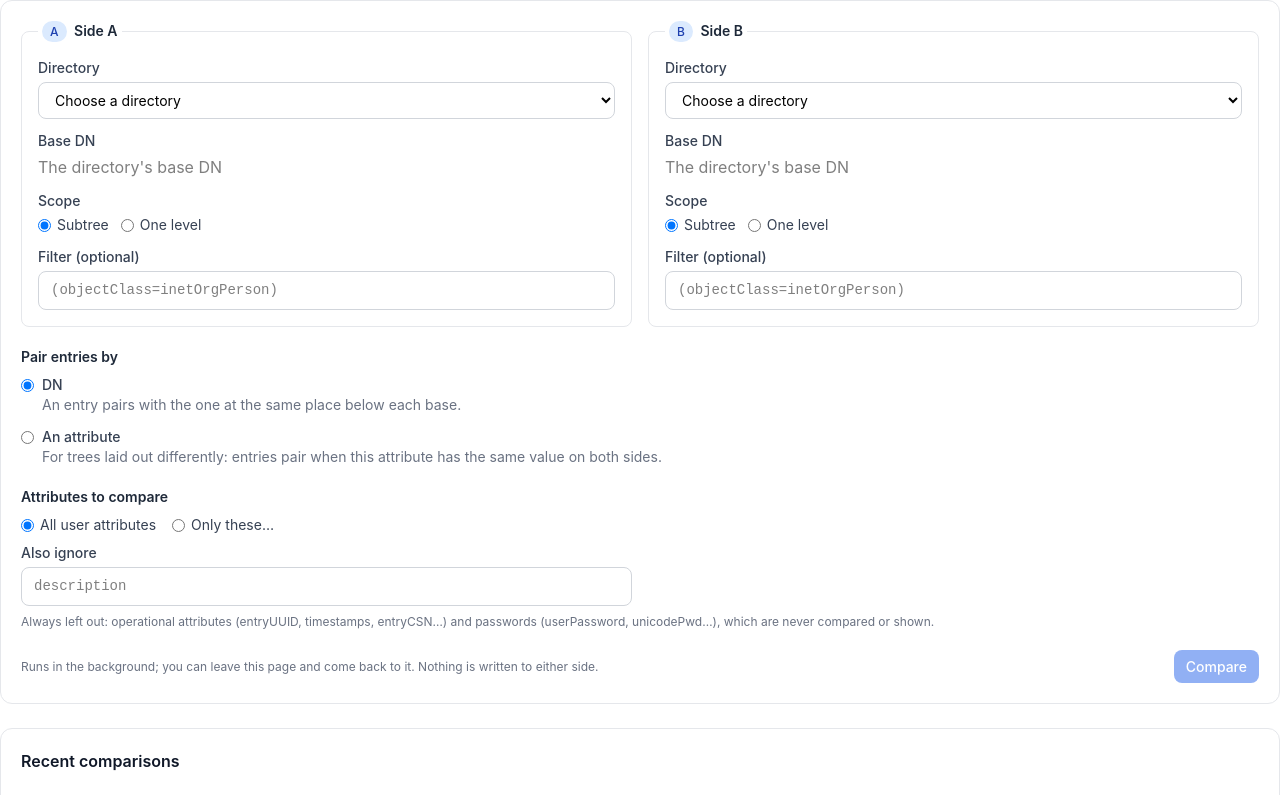
Scenario: DirectoryDiffSetup › keeps Compare disabled until both directories are chosen
expect the submit button is disabled: met, box [1174, 650, 1259, 683]
Select "East" in the dropdown with id "dd-a-dir" at coordinates (326, 101), box [38, 82, 615, 119]
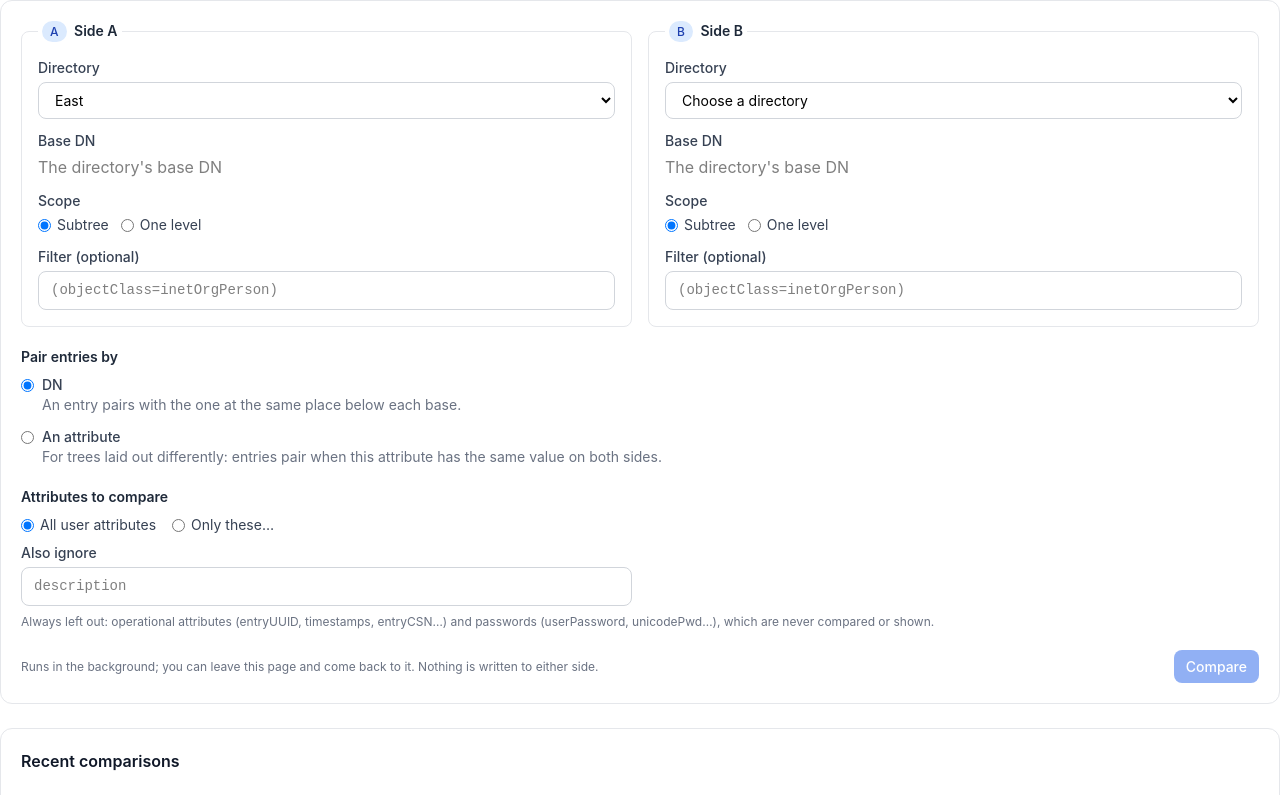
Select "West" in the dropdown with id "dd-b-dir" at coordinates (954, 101), box [665, 82, 1242, 119]
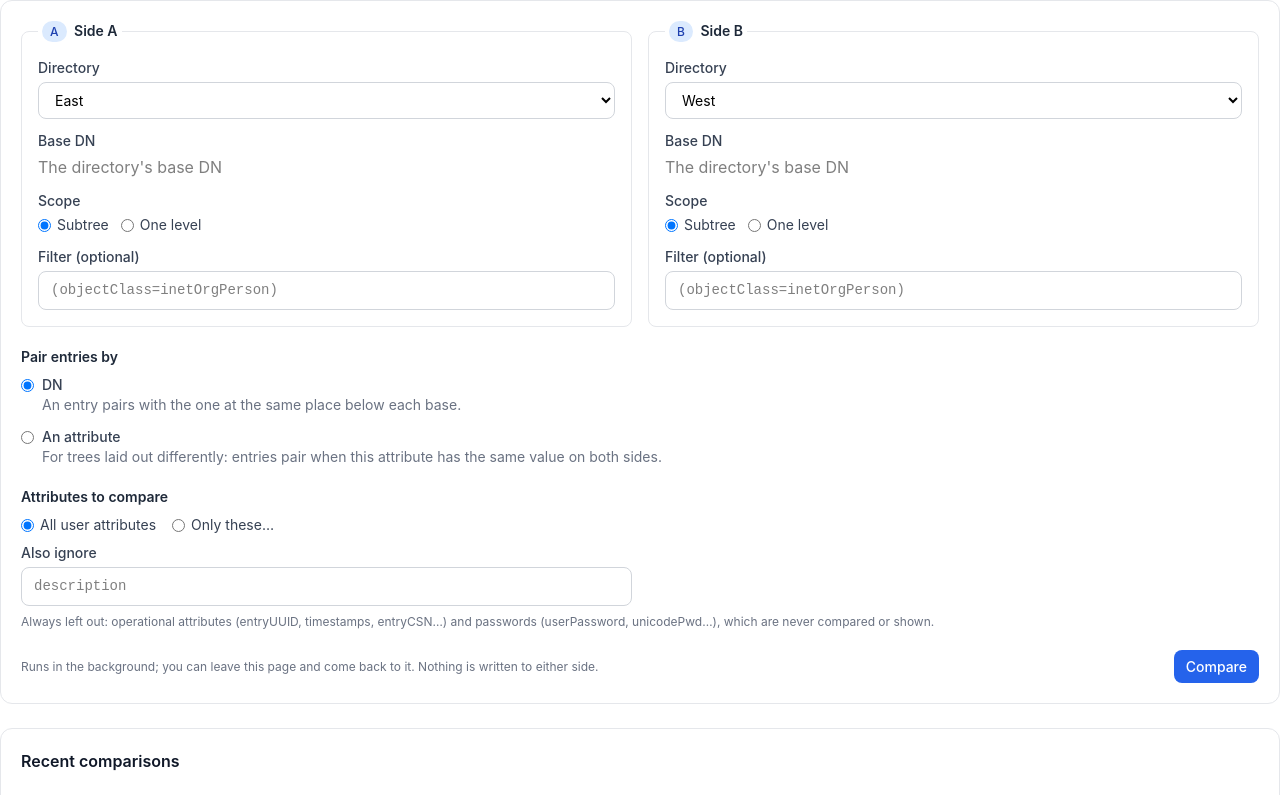
expect the submit button is enabled: met, box [1174, 650, 1259, 683]
